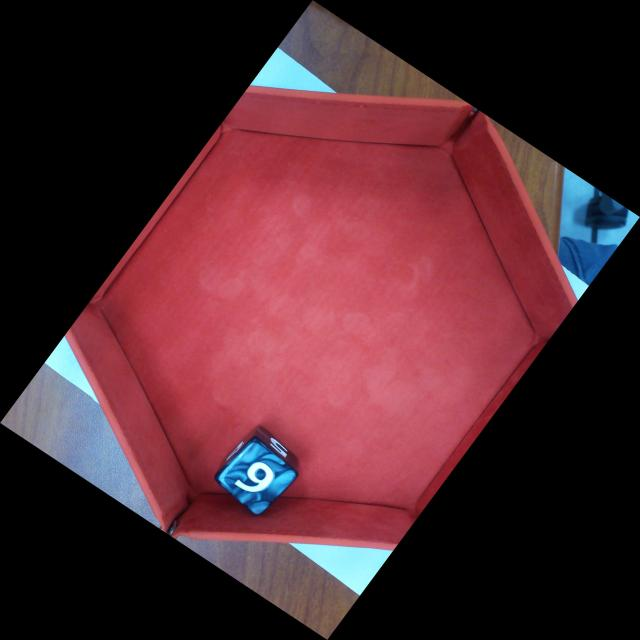dice: (214, 436, 299, 517)
